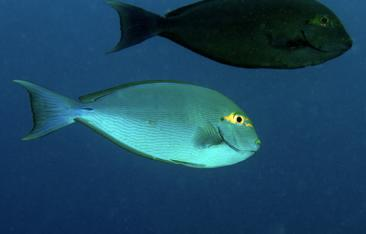Acanthuridae -Surgeonfishes-: (12, 79, 262, 169), (103, 0, 355, 70)
